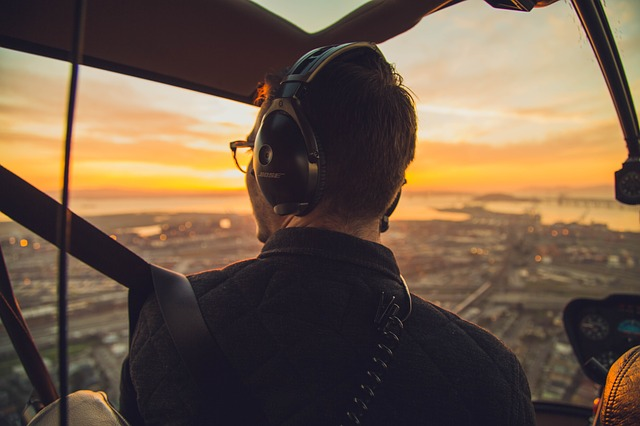headphones: (255, 42, 407, 234)
